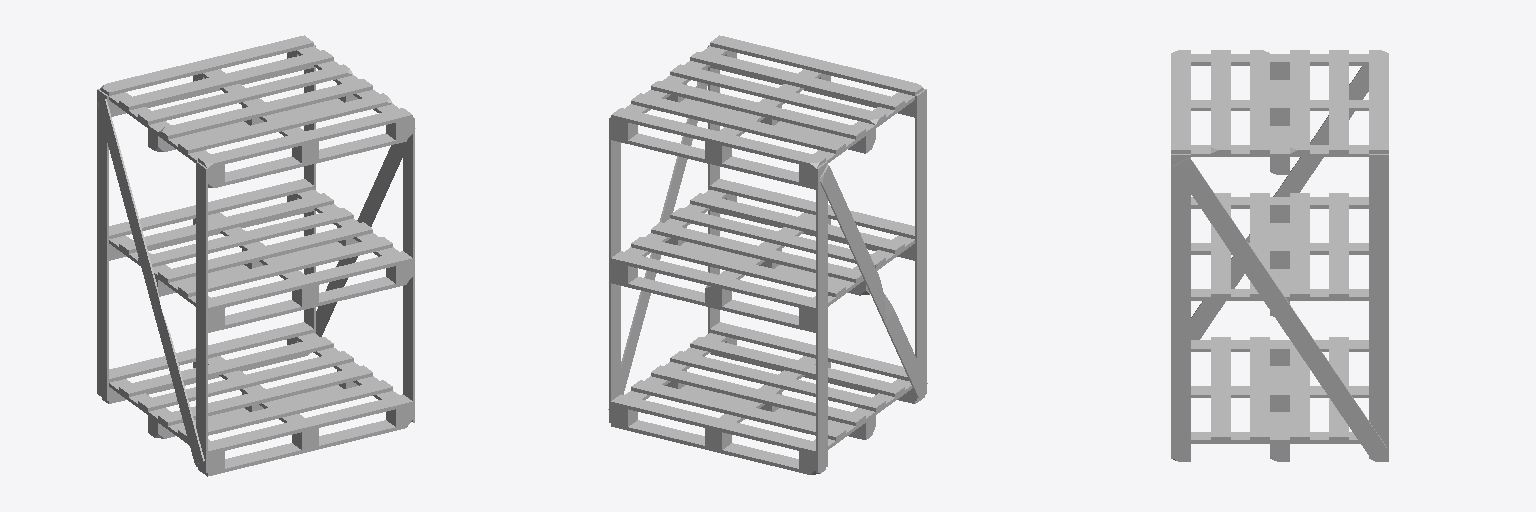
File: pallet_shelf.obj
3 renders of one model, left to right at view 1: azimuth 30°, elevation 25°; view 2: azimuth 150°, elevation 25°; view 3: azimuth 270°, elevation 25°, orthographic.
Parts seen in each view (by area): view 1: pallet_04_Mesh.005; view 2: pallet_04_Mesh.005; view 3: pallet_04_Mesh.005.
Boxes of the visible parts, <box> form: pallet_04_Mesh.005: <box>97,35,415,476</box>; pallet_04_Mesh.005: <box>608,35,927,474</box>; pallet_04_Mesh.005: <box>1171,50,1388,461</box>.
Size of the model in its own units: 0.6202 by 0.87 by 0.55.